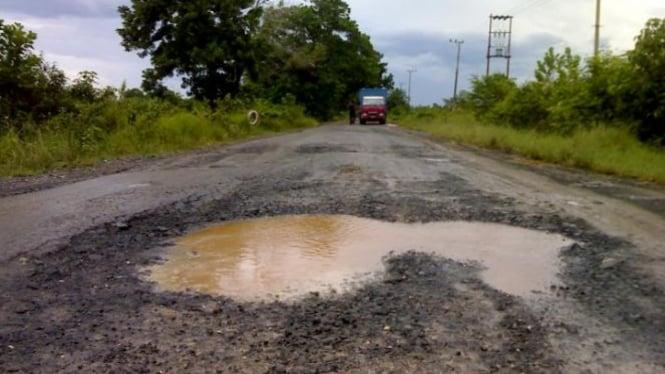Pothole: (110, 190, 665, 313), (160, 143, 265, 172), (398, 138, 476, 171), (283, 129, 361, 154), (304, 165, 378, 179)
